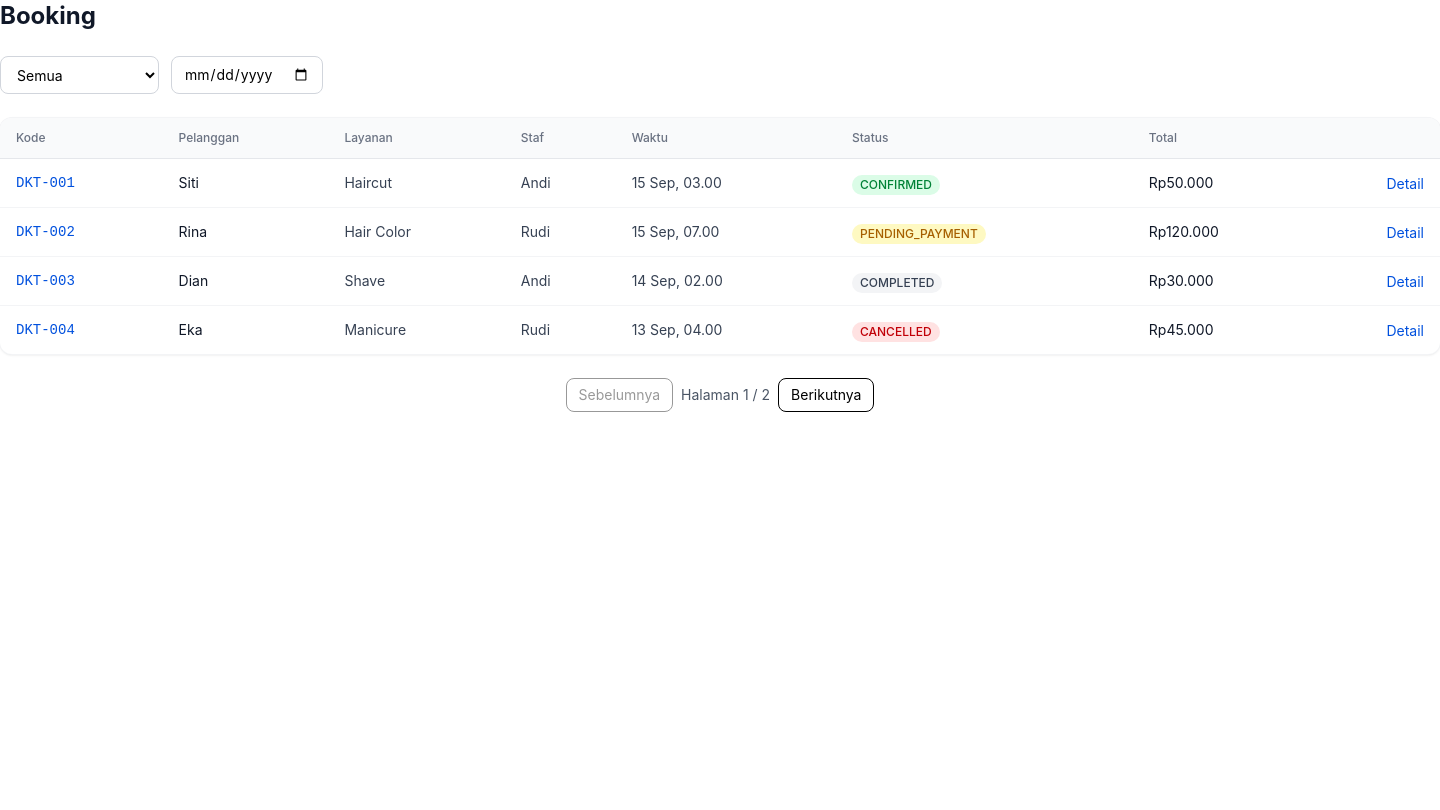
Test: BookingsPage (provider) › closes detail modal when clicking backdrop
expect the text "DKT-001" is shown: met, box [0, 158, 163, 208]
Click the button "Detail" in the row of "DKT-001" at (1405, 184), box [1386, 174, 1424, 194]
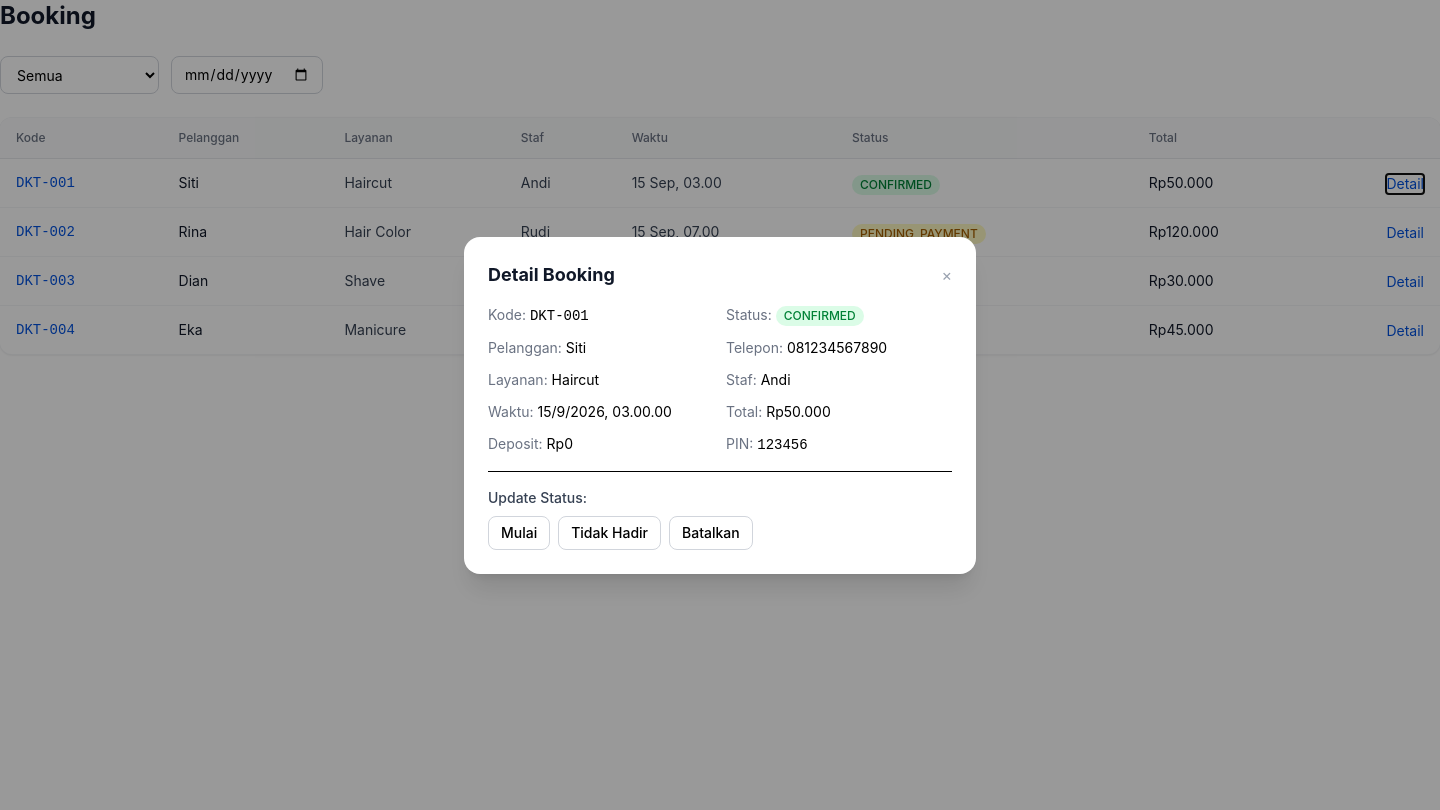
expect the heading "Detail Booking" is shown: met, box [488, 260, 615, 288]
Click the element with class "inset-0" at (86, 405), box [0, 0, 1439, 809]
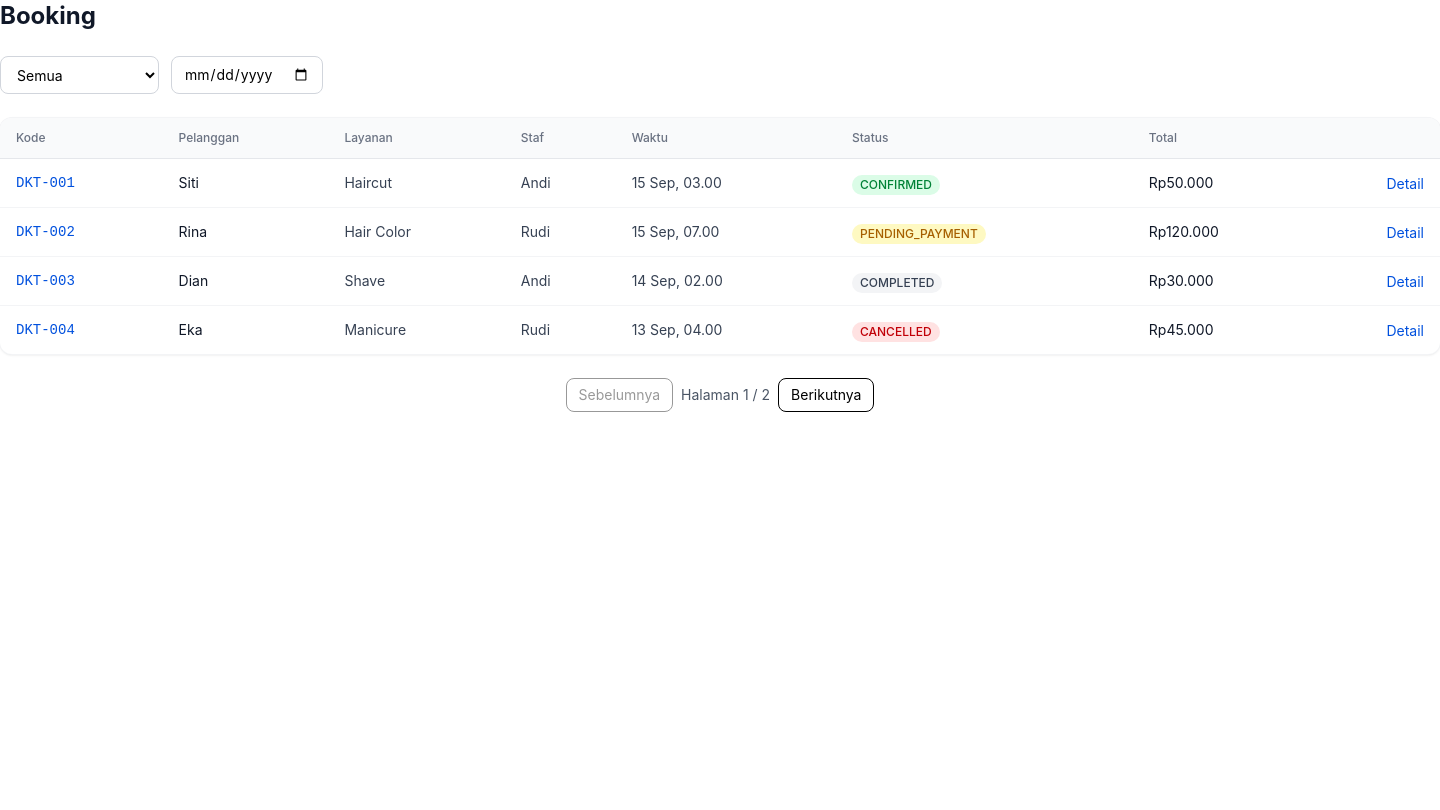
expect the heading "Detail Booking" is gone: met
